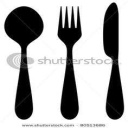Fork: (51, 3, 85, 122)
